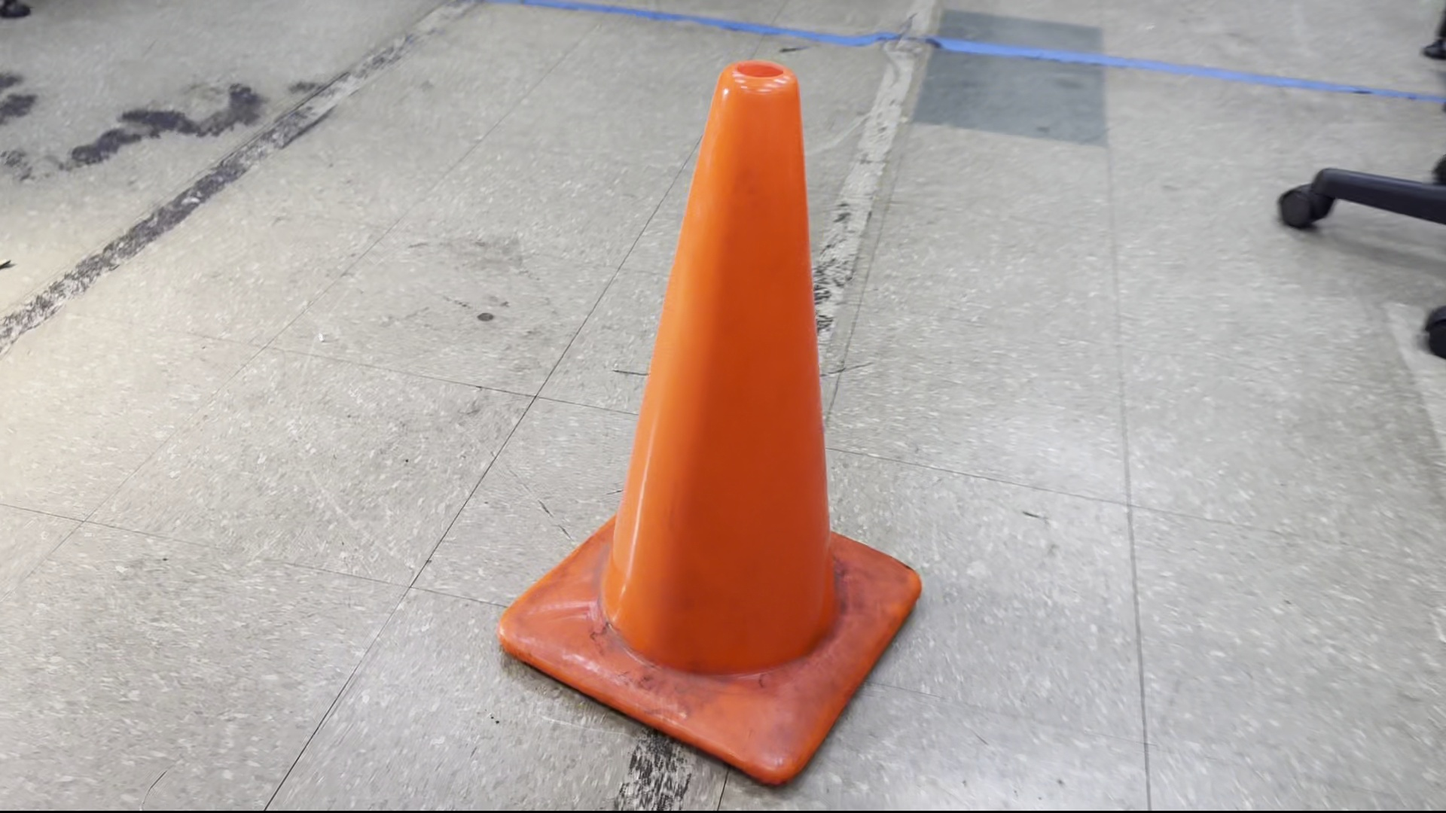traffic_cone: (496, 58, 923, 788)
